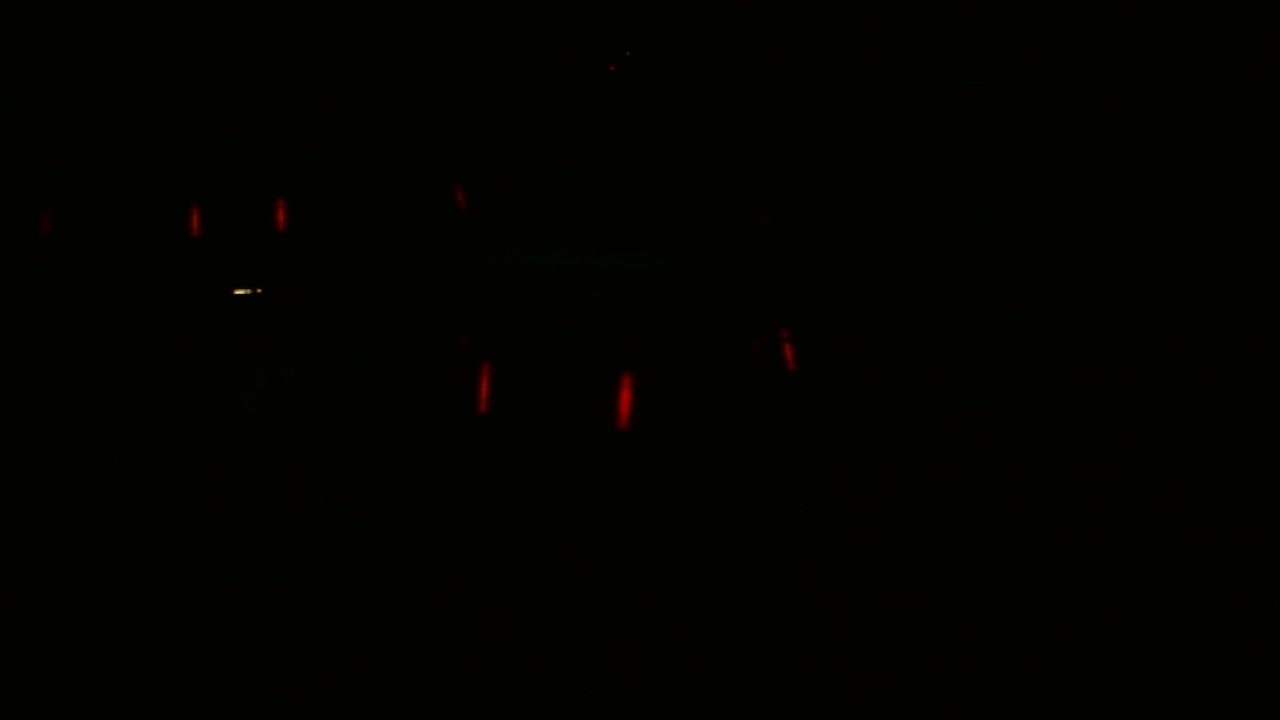pair1: (181, 192, 294, 245)
pair2: (472, 348, 641, 440)
